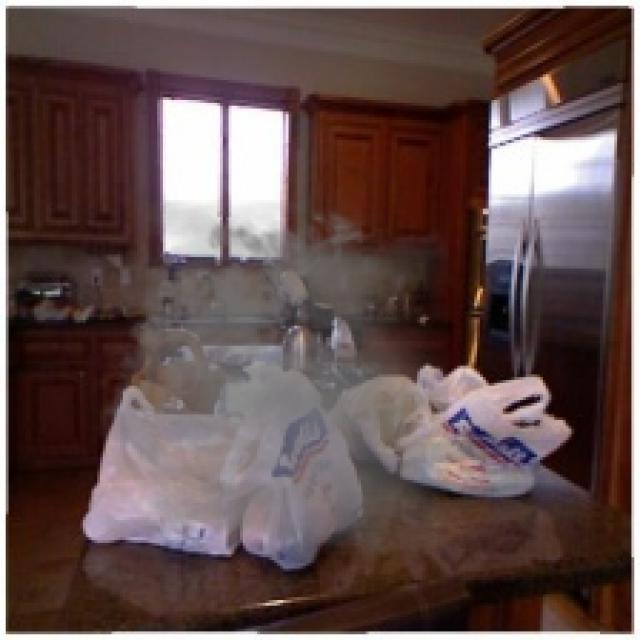Smoke: (86, 200, 448, 557)
